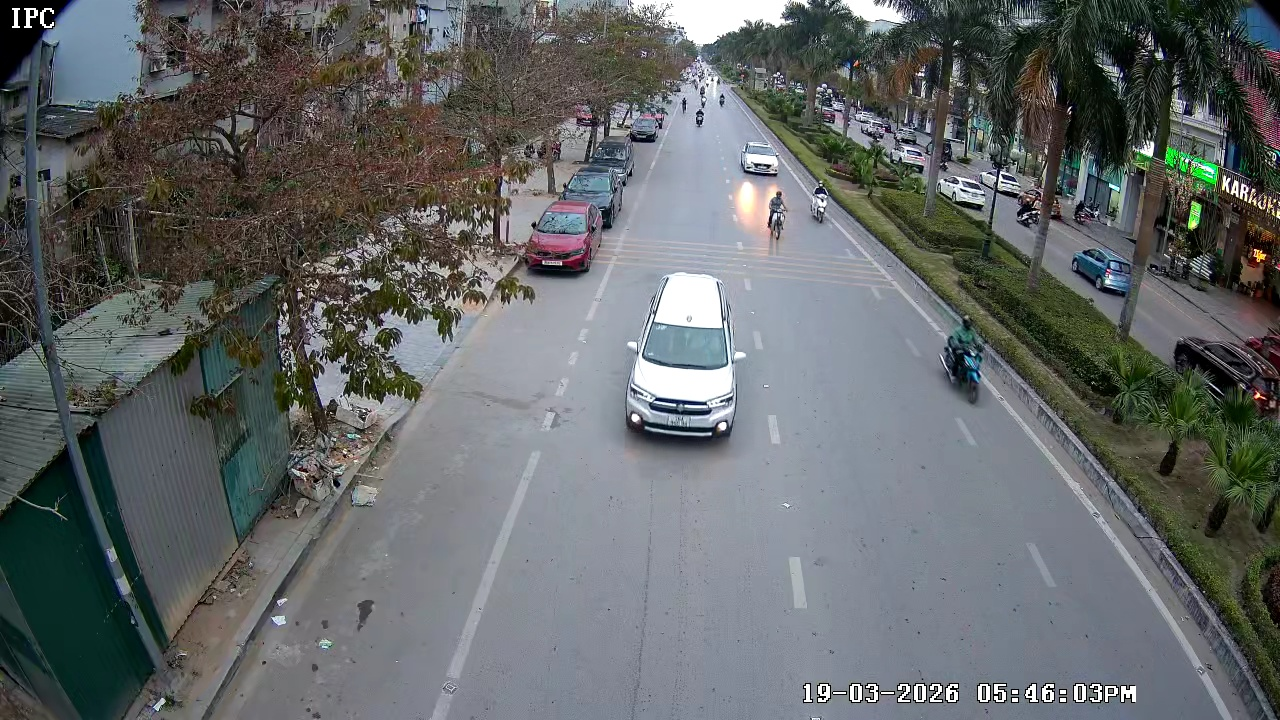car: (623, 271, 744, 440), (525, 200, 599, 276), (738, 135, 783, 180)
motorbike: (941, 312, 987, 405), (767, 190, 792, 239), (806, 177, 831, 224), (693, 108, 707, 127)
